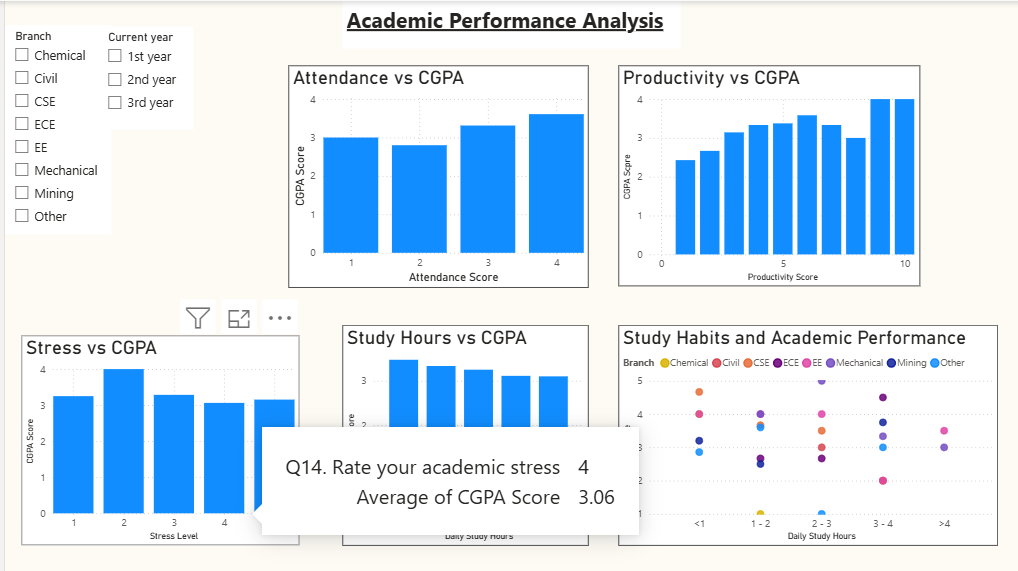

The dashboard page shown, as its layout file describes it:
{"tool":"powerbi","page":{"name":"ACADEMIC PERFORMANCE","canvas":[1280,720],"ordinal":3},"visuals":[{"type":"clusteredColumnChart","title":"Attendance vs CGPA","fields":{"Category":["Form_Responses.Attendance Score"],"Y":["Avg(Form_Responses.CGPA Score)"]},"box":[358,82,378,280],"z":0},{"type":"clusteredColumnChart","title":"Study Hours vs CGPA","fields":{"Category":["Form_Responses.Q6. Average study hours per day"],"Y":["Avg(Form_Responses.CGPA Score)"]},"box":[426,408,310,278],"z":1000},{"type":"clusteredColumnChart","title":"Productivity vs CGPA","fields":{"Category":["Form_Responses.Q18. How productive do you consider yourself"],"Y":["Avg(Form_Responses.CGPA Score)"]},"box":[772,82,380,278],"z":2000},{"type":"clusteredColumnChart","title":"Stress vs CGPA","fields":{"Category":["Form_Responses.Q14. Rate your academic stress"],"Y":["Avg(Form_Responses.CGPA Score)"]},"box":[20,422,350,264],"z":3000},{"type":"scatterChart","title":"Study Habits and Academic Performance","fields":{"X":["Form_Responses.Q6. Average study hours per day"],"Y":["Avg(Form_Responses.CGPA Score)"],"Series":["Form_Responses.Q2. Branch"]},"box":[772,408,478,278],"z":4000},{"type":"textbox","box":[426,0,426,60],"z":5000},{"type":"slicer","fields":{"Values":["Form_Responses.Q2. Branch"]},"box":[0,30,134,264],"z":6000},{"type":"slicer","fields":{"Values":["Form_Responses.Q3. Current year"]},"box":[118,32,120,130],"z":7000}]}

Visuals, with their boxes in screenshot pixels (x1, y1, x2, y2), scaled from the page's 1280x720 canvas onto the 1018x571 screenshot:
"Attendance vs CGPA" clusteredColumnChart: select_region(285, 65, 585, 287)
"Study Hours vs CGPA" clusteredColumnChart: select_region(339, 324, 585, 544)
"Productivity vs CGPA" clusteredColumnChart: select_region(614, 65, 916, 286)
"Stress vs CGPA" clusteredColumnChart: select_region(16, 335, 294, 544)
"Study Habits and Academic Performance" scatterChart: select_region(614, 324, 994, 544)
textbox: select_region(339, 0, 678, 48)
slicer - Form_Responses.Q2. Branch: select_region(0, 24, 107, 233)
slicer - Form_Responses.Q3. Current year: select_region(94, 25, 189, 128)
